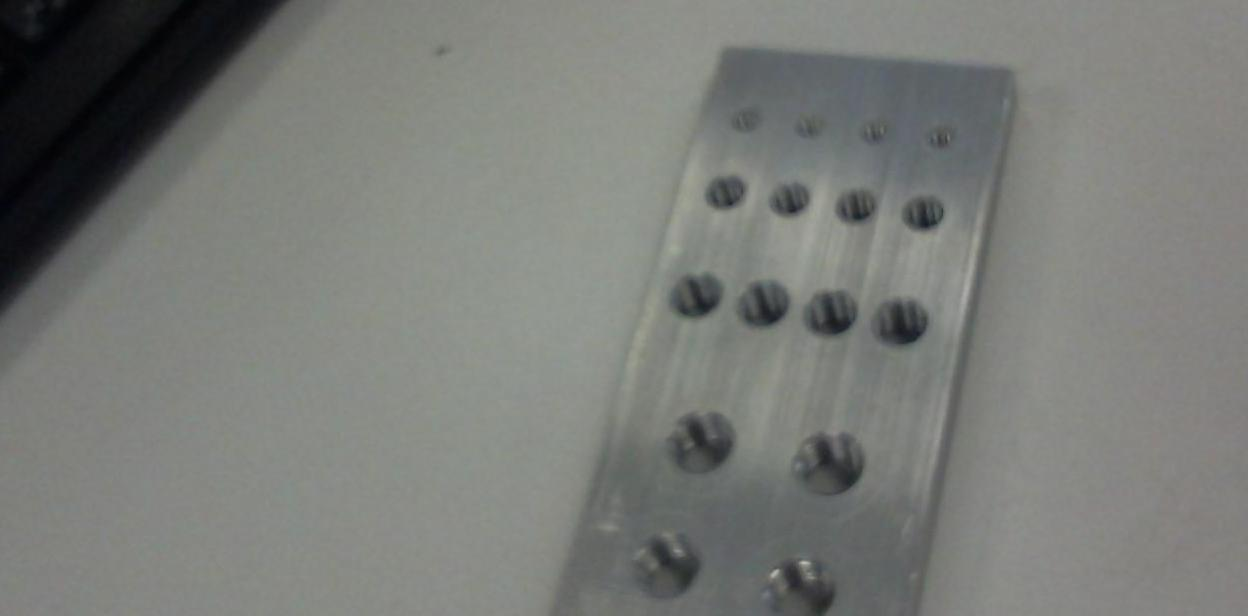hole: (656, 404, 744, 480), (631, 528, 706, 609), (790, 428, 870, 500), (760, 552, 842, 616), (868, 291, 936, 352), (798, 284, 865, 344), (666, 266, 730, 325), (894, 185, 954, 241), (824, 179, 887, 231), (702, 170, 760, 218), (740, 284, 795, 333), (760, 174, 814, 223), (789, 104, 836, 150), (863, 108, 905, 156), (917, 116, 962, 157), (722, 94, 768, 134)
